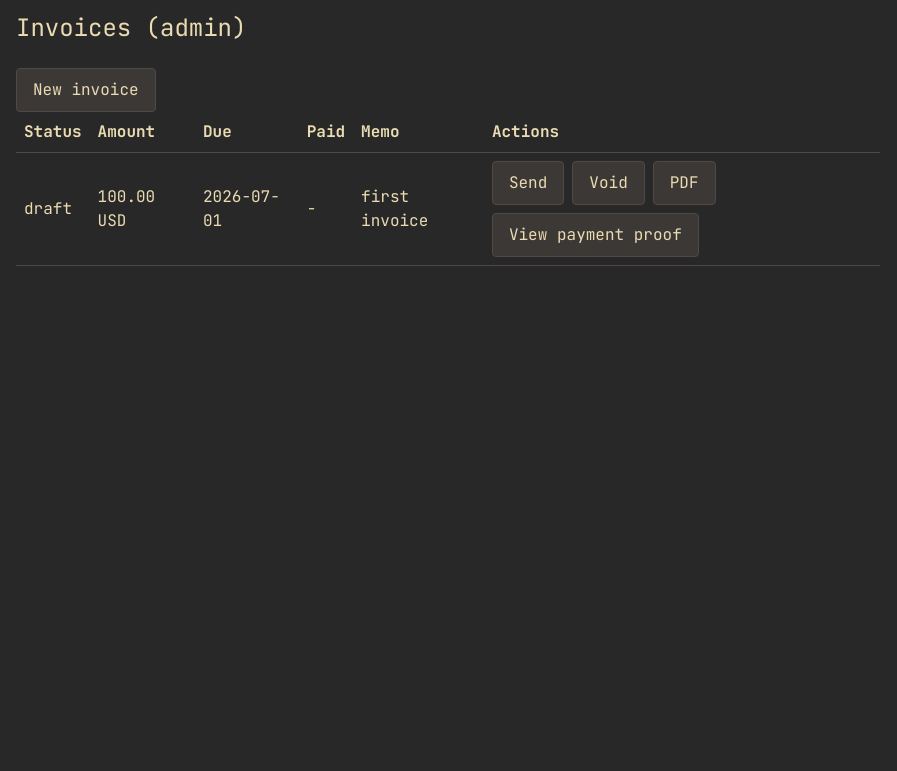
AdminInvoices (integration) › importing from a BOM populates material/labor/overhead line items with a real cost breakdown
Click the button "New invoice" at (86, 90), box [16, 68, 156, 112]
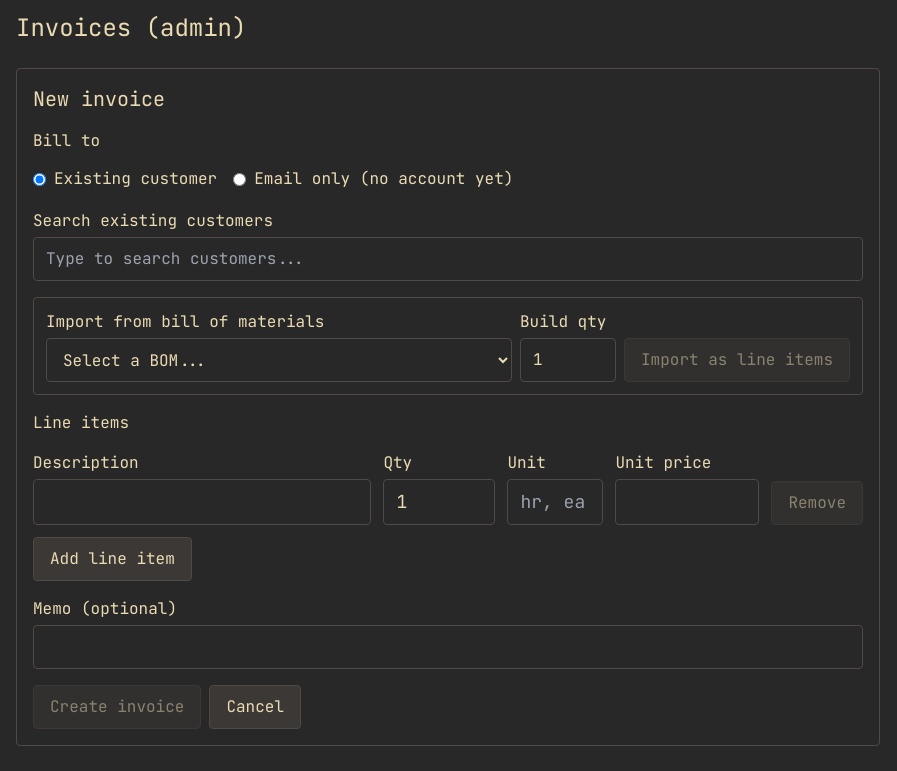
Select "Widget Assembly" in the dropdown labelled "Import from bill of materials" at (279, 360), box [46, 338, 512, 382]
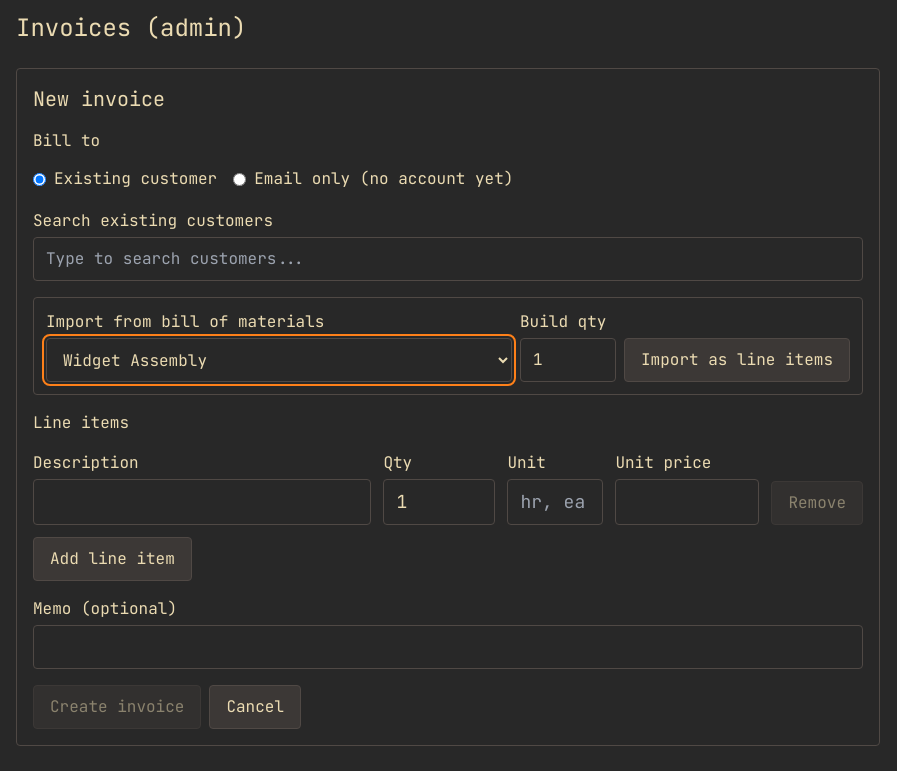
Click the button "Import as line items" at (737, 360), box [624, 338, 850, 382]
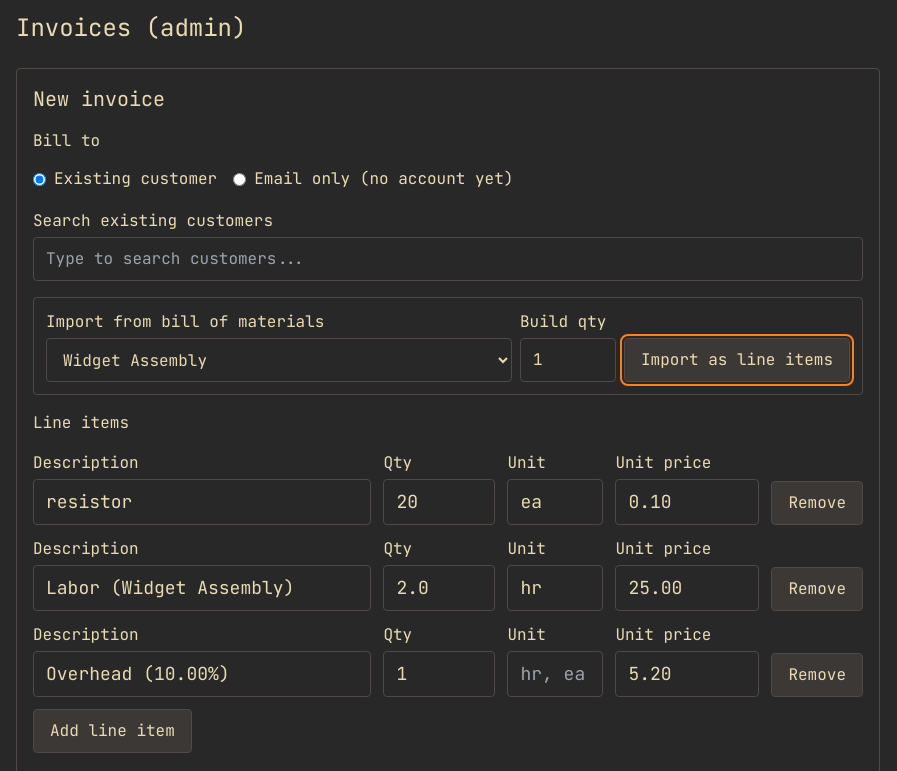
Check: the 1st field showing "resistor" is shown, box [33, 479, 371, 525]
Check: the 1st number field showing "20" is shown, box [383, 479, 495, 525]
Check: the 1st number field showing "0.10" is shown, box [615, 479, 759, 525]
